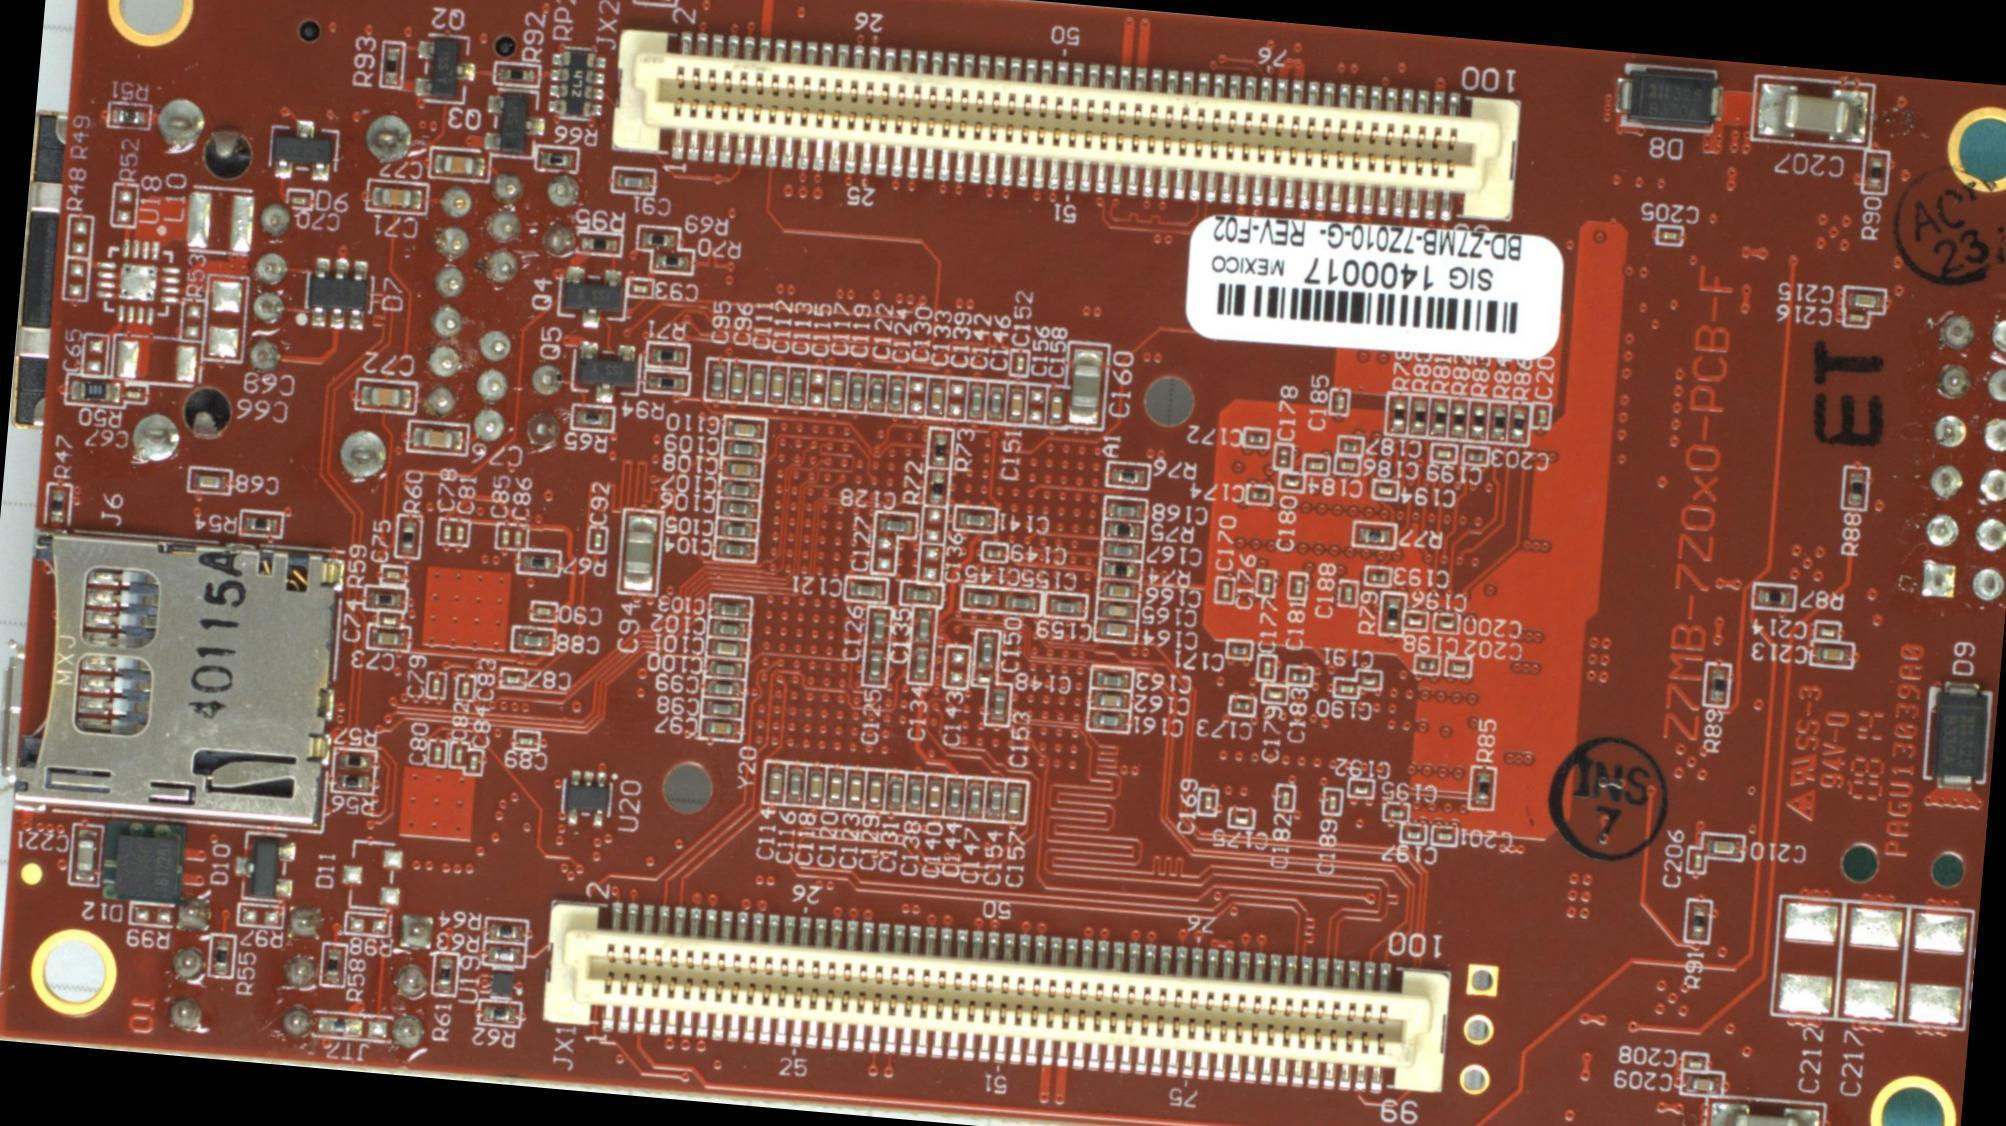Capacitor: (1754, 81, 1869, 145), (1064, 344, 1104, 426), (620, 512, 659, 592), (1703, 1099, 1822, 1125), (72, 828, 100, 883), (409, 425, 464, 452), (430, 149, 487, 175), (359, 382, 412, 409), (369, 183, 423, 208), (1682, 1073, 1722, 1093), (190, 472, 227, 492), (963, 588, 1000, 609), (1089, 710, 1125, 730), (1812, 644, 1850, 663), (944, 779, 964, 815), (1002, 784, 1022, 820), (904, 775, 924, 811), (784, 766, 804, 802), (864, 773, 884, 809), (1001, 593, 1037, 613), (902, 584, 938, 605), (910, 644, 930, 680), (985, 782, 1005, 818), (924, 778, 944, 814), (912, 608, 932, 645), (976, 634, 995, 671), (706, 659, 742, 678), (963, 780, 983, 816), (764, 764, 784, 800), (803, 768, 823, 804), (884, 775, 904, 811), (825, 770, 845, 806), (844, 772, 864, 808), (1845, 291, 1881, 310), (848, 373, 866, 409), (725, 440, 761, 459), (722, 458, 758, 477), (1106, 499, 1142, 518), (722, 480, 758, 499), (719, 499, 755, 518), (877, 515, 913, 535), (716, 539, 752, 558), (1099, 580, 1135, 599), (1098, 600, 1134, 619), (1047, 596, 1083, 615), (847, 580, 883, 599), (1097, 620, 1133, 639), (710, 619, 746, 638), (1094, 670, 1130, 689), (864, 646, 883, 682), (1091, 689, 1127, 709), (369, 627, 405, 647), (703, 699, 739, 718), (1703, 836, 1740, 855), (614, 170, 651, 188), (728, 363, 746, 399), (726, 419, 763, 437), (717, 519, 753, 538), (988, 686, 1006, 723), (706, 679, 742, 698), (869, 610, 889, 645), (515, 631, 550, 651), (986, 384, 1004, 420), (887, 375, 905, 411), (927, 379, 945, 415), (966, 382, 984, 418), (1006, 386, 1024, 422), (1046, 389, 1064, 425), (788, 368, 806, 404), (828, 371, 846, 407), (867, 374, 885, 410), (707, 362, 725, 398), (748, 365, 766, 401), (767, 368, 785, 404), (957, 510, 994, 528), (1103, 541, 1139, 560), (711, 599, 747, 618), (708, 639, 744, 658), (702, 719, 738, 738), (1415, 657, 1437, 672), (1435, 616, 1456, 631), (1264, 686, 1284, 701), (1231, 697, 1251, 713), (502, 671, 522, 687), (1815, 625, 1837, 638), (1230, 811, 1249, 826), (1246, 432, 1265, 446), (984, 545, 1003, 559), (1258, 575, 1273, 594), (1339, 585, 1354, 604), (1449, 659, 1468, 674), (533, 603, 552, 619), (1325, 792, 1339, 813), (1433, 829, 1453, 843), (1373, 484, 1394, 498), (590, 529, 603, 550), (459, 523, 472, 543), (1229, 644, 1249, 657), (1288, 668, 1309, 682), (1201, 791, 1214, 813), (430, 743, 444, 762), (1465, 449, 1484, 463), (1289, 576, 1303, 596), (440, 522, 453, 541), (451, 745, 463, 766), (1012, 352, 1025, 372), (1334, 681, 1355, 693), (1340, 438, 1357, 453), (1386, 805, 1404, 819), (516, 733, 535, 747), (466, 752, 479, 771), (1659, 228, 1677, 241), (122, 387, 141, 401), (1217, 581, 1230, 600), (1358, 673, 1377, 686), (1351, 781, 1370, 795), (1366, 570, 1387, 582), (1403, 614, 1424, 626), (1260, 657, 1272, 679), (1278, 788, 1291, 808), (1685, 1057, 1704, 1070), (1332, 392, 1345, 411), (429, 676, 441, 694), (1690, 849, 1702, 870), (1535, 407, 1547, 425), (1434, 447, 1452, 459), (1249, 488, 1268, 500), (499, 528, 511, 546), (1403, 828, 1421, 840), (1846, 311, 1864, 322), (630, 282, 648, 294), (1307, 460, 1325, 471), (1281, 476, 1299, 487), (511, 529, 522, 547), (383, 570, 401, 581), (379, 614, 397, 626), (459, 679, 470, 697), (1340, 459, 1356, 471), (975, 673, 991, 685), (289, 194, 307, 204), (1278, 447, 1288, 465)
Connector: (541, 888, 1452, 1105), (606, 19, 1521, 232), (8, 521, 349, 837), (1452, 959, 1502, 1101)
Diode: (1919, 678, 1996, 792), (1611, 60, 1726, 136), (301, 254, 370, 330), (265, 116, 340, 185), (231, 829, 297, 904), (112, 832, 180, 902)
IC: (557, 767, 614, 827), (487, 967, 518, 1000)
Pads: (90, 236, 182, 328), (1903, 909, 1970, 1028), (1773, 900, 1840, 1018), (1838, 905, 1904, 1021), (342, 837, 406, 916), (184, 188, 257, 254), (112, 338, 199, 384), (203, 277, 244, 359), (239, 905, 281, 927), (131, 906, 171, 925), (921, 545, 941, 581), (946, 648, 967, 685), (347, 915, 386, 934), (1027, 386, 1046, 424), (113, 186, 134, 222), (181, 303, 201, 339), (874, 535, 894, 571), (69, 217, 88, 254), (946, 379, 965, 417), (84, 337, 103, 373), (67, 260, 85, 296), (808, 369, 825, 405), (907, 378, 924, 414), (923, 507, 941, 543)
Pins: (414, 163, 527, 443), (1914, 308, 2005, 607), (244, 202, 293, 376), (166, 895, 213, 1035), (387, 910, 434, 1050), (277, 904, 324, 1044), (523, 360, 566, 448), (154, 90, 210, 154), (539, 171, 578, 257), (128, 407, 183, 464), (334, 425, 389, 482), (362, 112, 415, 163)
Resistor: (547, 45, 606, 122), (67, 377, 122, 404), (46, 486, 67, 526), (480, 1002, 517, 1026), (432, 957, 455, 994), (484, 944, 523, 964), (497, 65, 537, 84), (578, 233, 618, 252), (1507, 405, 1528, 442), (1354, 526, 1392, 547), (1381, 596, 1401, 632), (1472, 769, 1492, 806), (211, 937, 230, 976), (335, 771, 370, 791), (639, 229, 675, 249), (1845, 469, 1865, 505), (573, 408, 609, 428), (1109, 466, 1145, 486), (397, 518, 417, 554), (322, 946, 342, 982), (1864, 153, 1884, 190), (1448, 399, 1467, 437), (1754, 587, 1791, 606), (520, 551, 557, 571), (1707, 667, 1726, 704), (367, 589, 403, 608), (381, 44, 399, 84), (111, 104, 146, 124), (650, 346, 685, 367), (1428, 400, 1447, 436), (241, 514, 279, 532), (654, 250, 687, 270), (645, 374, 686, 390), (1468, 400, 1486, 437), (336, 751, 371, 771), (926, 469, 945, 503), (486, 922, 522, 940), (537, 149, 573, 167), (1487, 404, 1505, 440), (1105, 521, 1141, 539), (1688, 905, 1707, 939), (1389, 397, 1407, 432), (1409, 398, 1427, 433), (931, 430, 948, 466), (1101, 561, 1137, 578), (637, 0, 675, 5)
Transistor: (567, 338, 644, 405), (412, 31, 478, 106), (480, 87, 545, 161), (555, 262, 623, 328)
